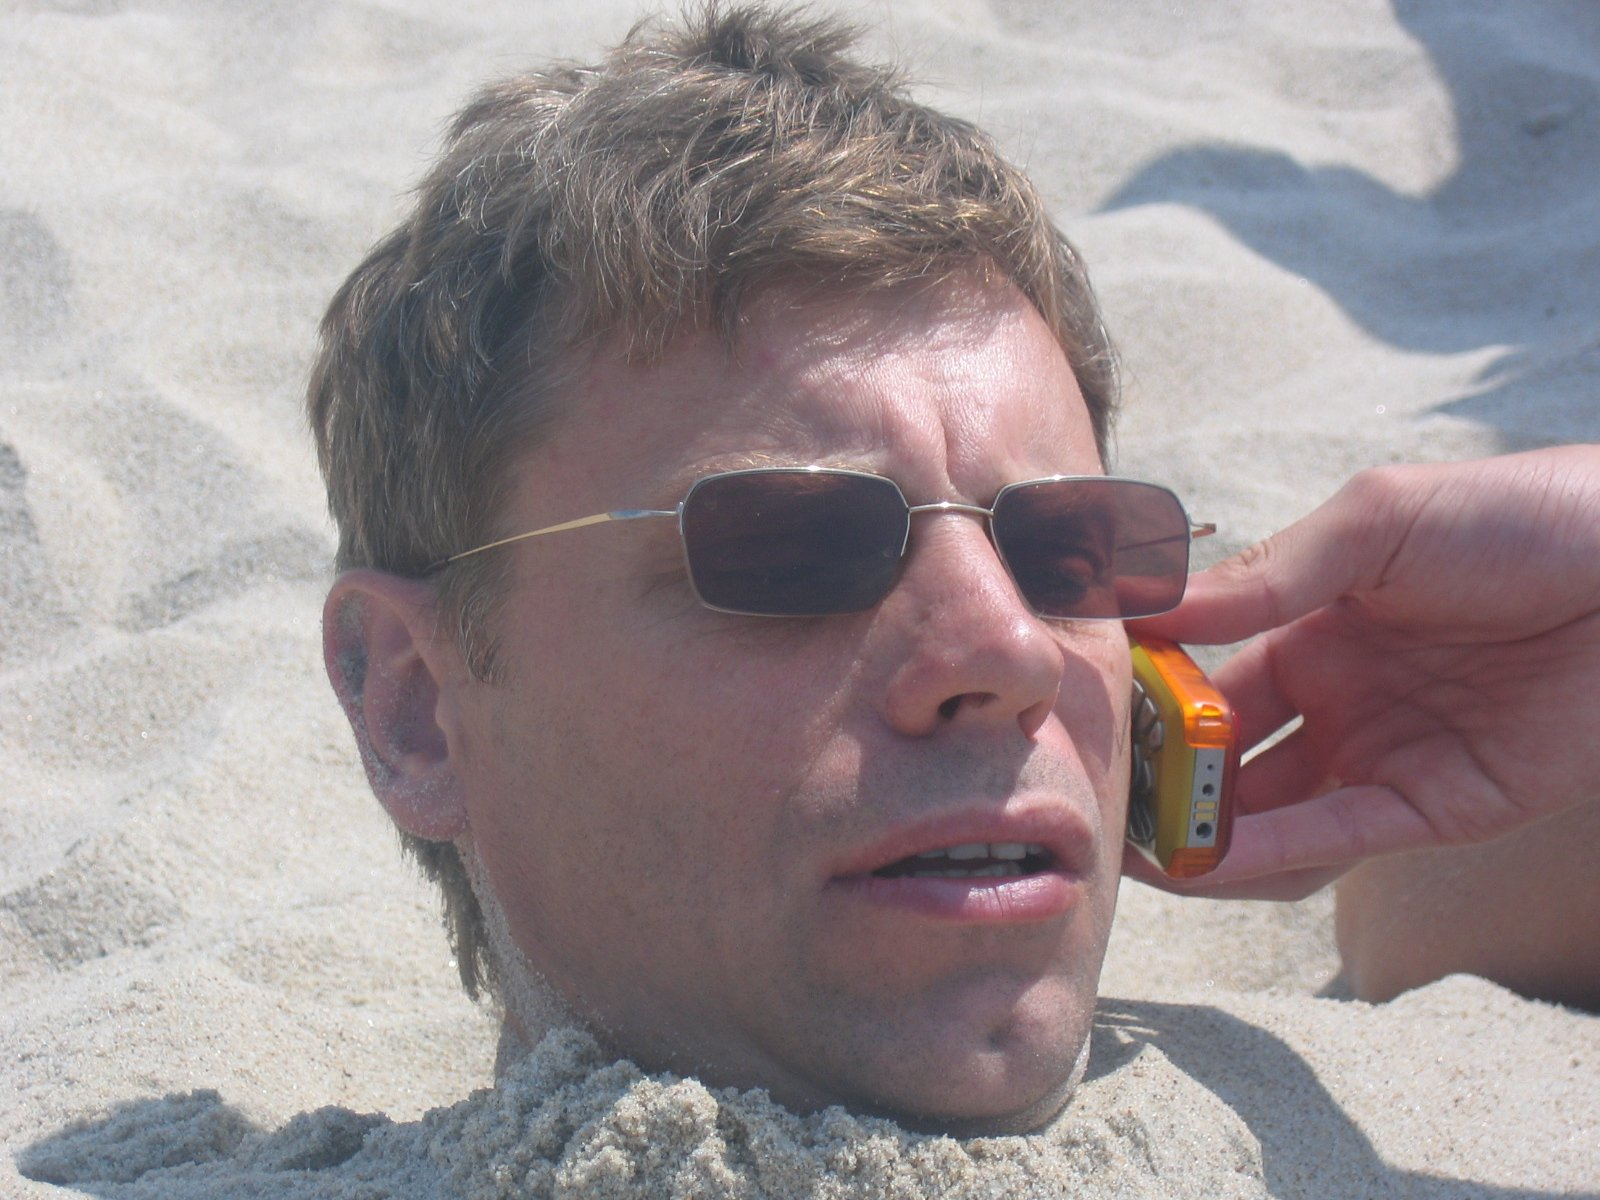phone: (1073, 580, 1342, 913)
